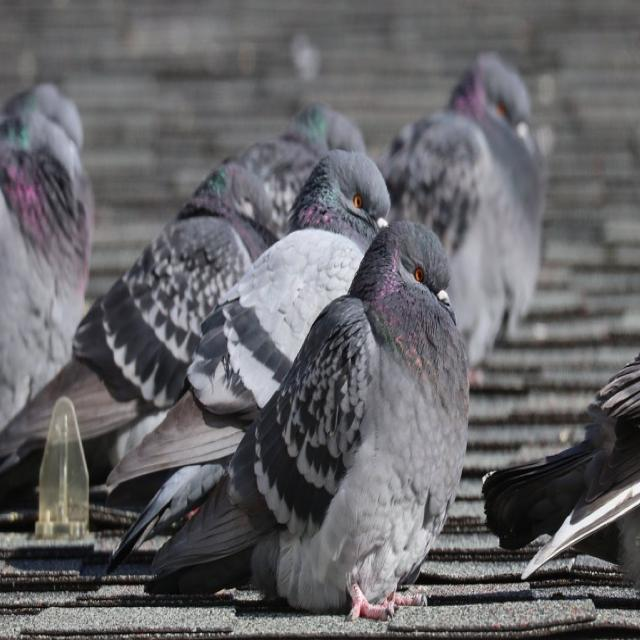Pigeon: (138, 215, 473, 616), (82, 142, 400, 505), (0, 67, 100, 421)
